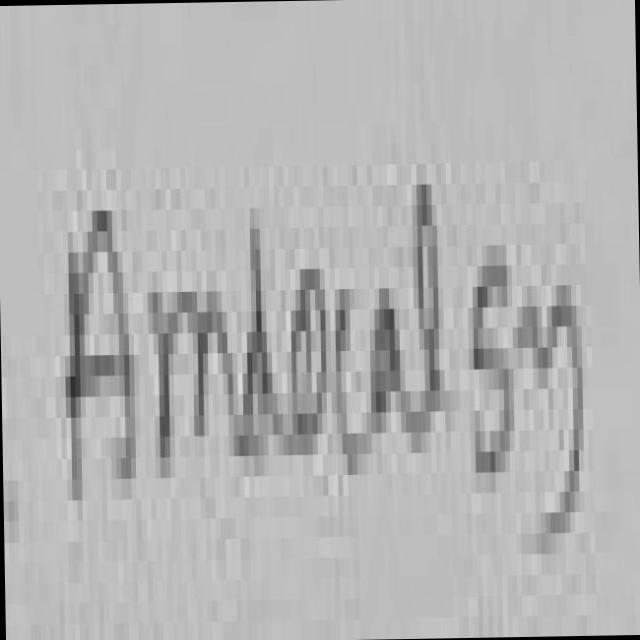5: (471, 254, 516, 482)
A: (68, 210, 135, 490)
a: (375, 288, 405, 422)
c: (340, 289, 357, 474)
d: (237, 228, 282, 445)
g: (548, 274, 585, 542)
l: (410, 184, 439, 422)
m: (153, 291, 232, 467), (512, 284, 560, 379)
o: (295, 268, 326, 424)
